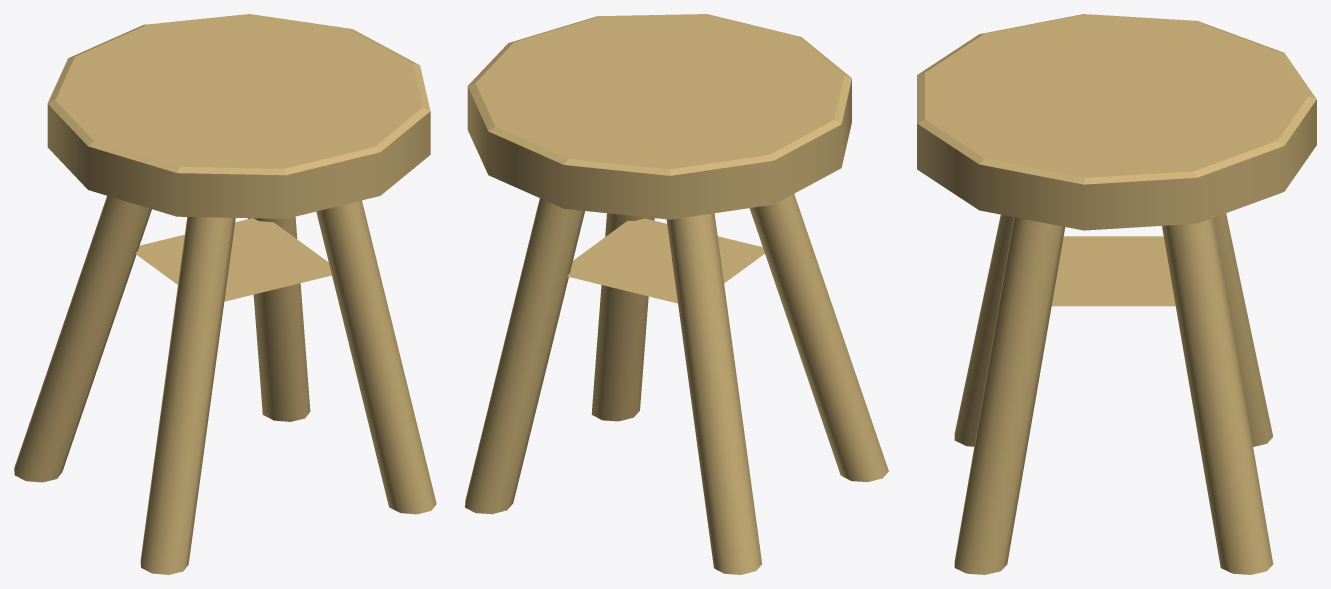
Rendered from stool_01.fbx.
3 views of the same model, side by side, from view 1: azimuth 30°, elevation 25°; view 2: azimuth 150°, elevation 25°; view 3: azimuth 270°, elevation 25° (orthographic). The views are drawn at different scales.
Parts seen in each view (by area): view 1: stool_01; view 2: stool_01; view 3: stool_01.
Part boxes in pixels (bbox=[...]): stool_01: bbox=[14, 14, 436, 574]; stool_01: bbox=[465, 14, 888, 574]; stool_01: bbox=[917, 14, 1316, 574].
Size of the model in its own units: 45.89 by 51.72 by 45.42.
